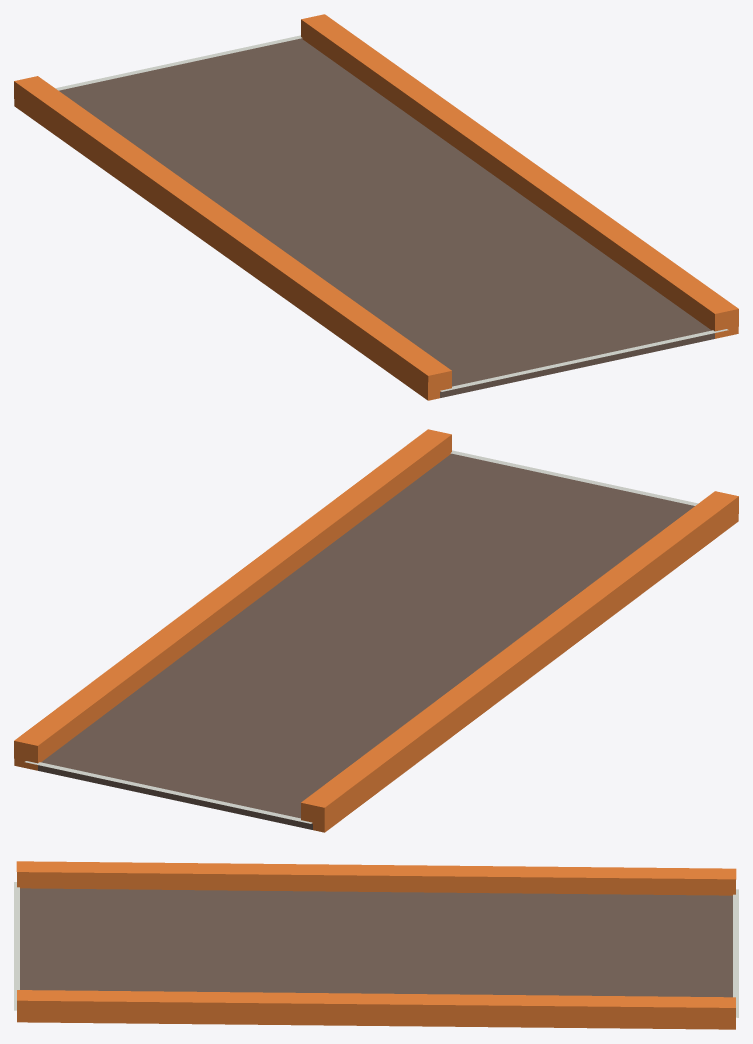
File: SM_MP_Film_A_4_1.fbx
3 renders of one model, top to bottom at view 1: azimuth 30°, elevation 25°; view 2: azimuth 150°, elevation 25°; view 3: azimuth 270°, elevation 25°, orthographic. The views are drawn at different scales.
Visible parts, largest first — view 1: SM_MP_Film_A_4_1; view 2: SM_MP_Film_A_4_1; view 3: SM_MP_Film_A_4_1.
Part boxes in pixels (bbox=[...]): SM_MP_Film_A_4_1: bbox=[14, 14, 738, 400]; SM_MP_Film_A_4_1: bbox=[14, 429, 738, 832]; SM_MP_Film_A_4_1: bbox=[14, 861, 738, 1029].
Size of what is drawn, in the model's own units: 260 by 605 by 33.78.
